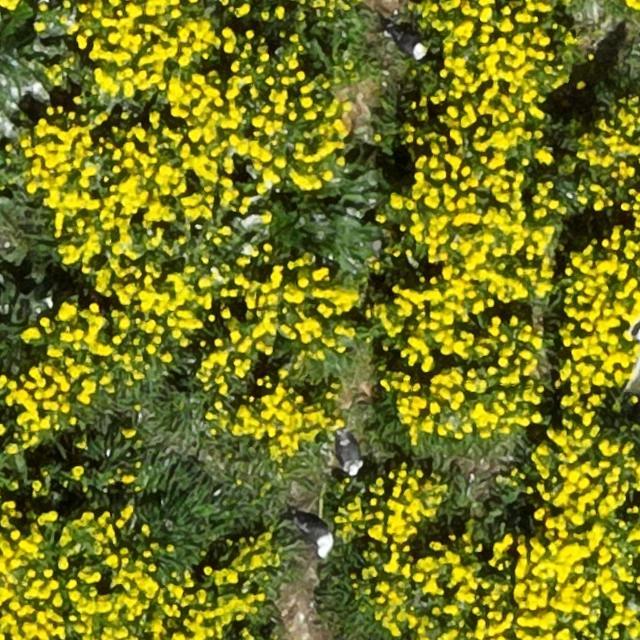umineko: (300, 522, 332, 556), (338, 434, 361, 474), (392, 33, 426, 58)
